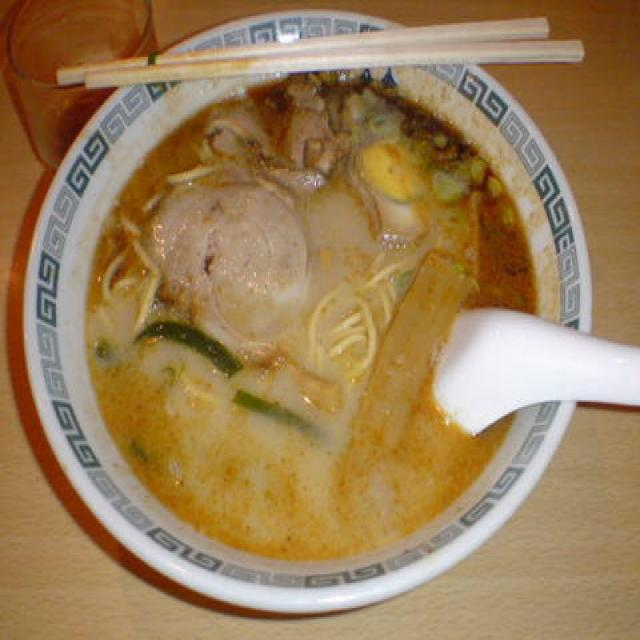面条主食: (20, 5, 592, 615)
